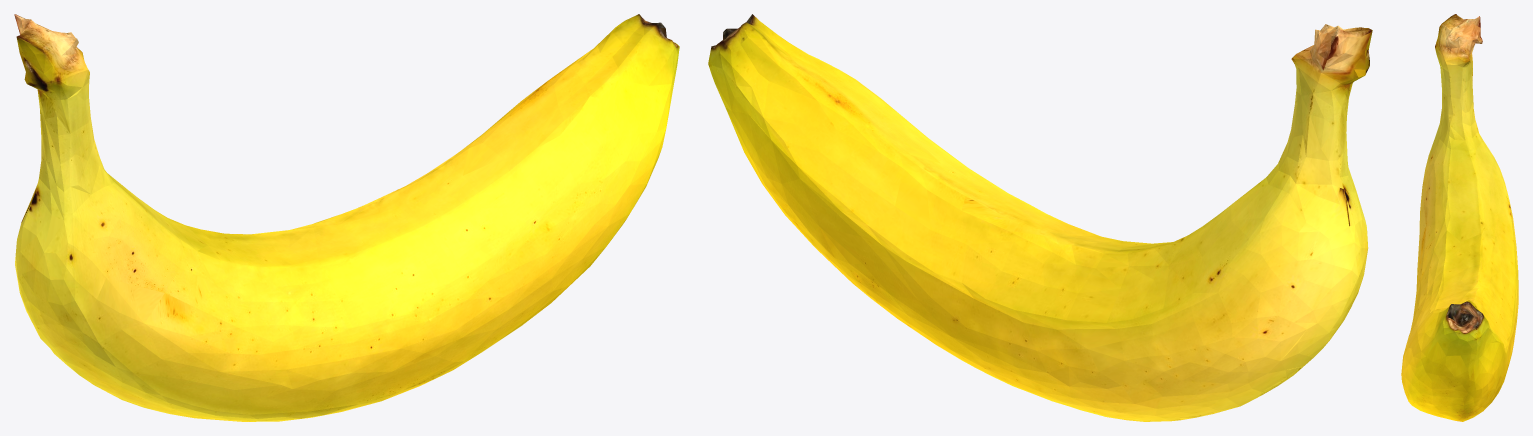
File: banana-transformed.glb
3 views of the same model, side by side, from view 1: azimuth 30°, elevation 25°; view 2: azimuth 150°, elevation 25°; view 3: azimuth 270°, elevation 25° (orthographic). The views are drawn at different scales.
Parts seen in each view (by area): view 1: banana; view 2: banana; view 3: banana.
Part boxes in pixels (x1=…): banana: x1=14, y1=14, x2=679, y2=421; banana: x1=708, y1=14, x2=1372, y2=421; banana: x1=1401, y1=14, x2=1518, y2=421.
Bounding box in the file's own units: 6.79 × 4.44 × 1.62.
1 material, 1 textured.
